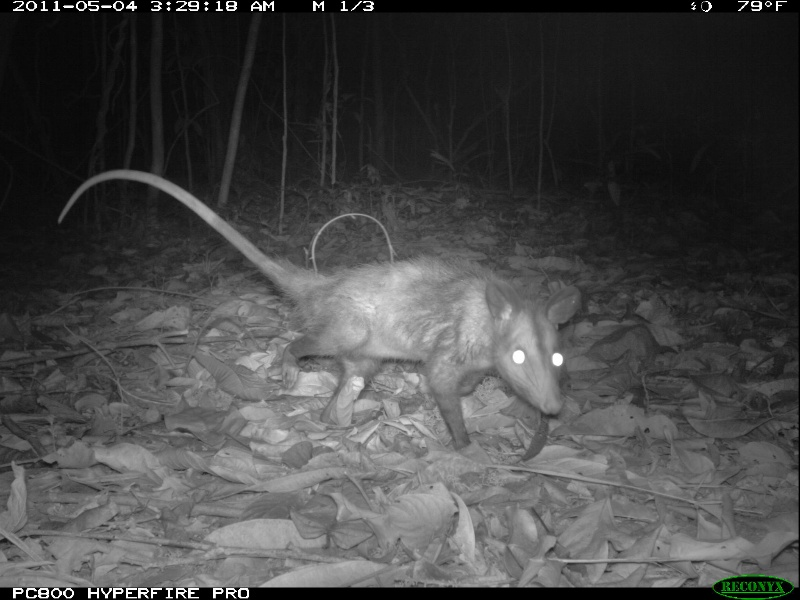opossum: (56, 165, 581, 458)
